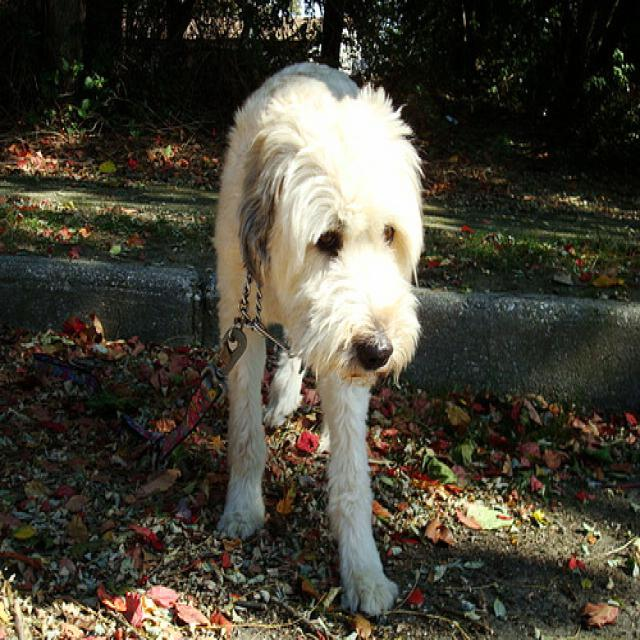dog: (238, 102, 424, 372)
